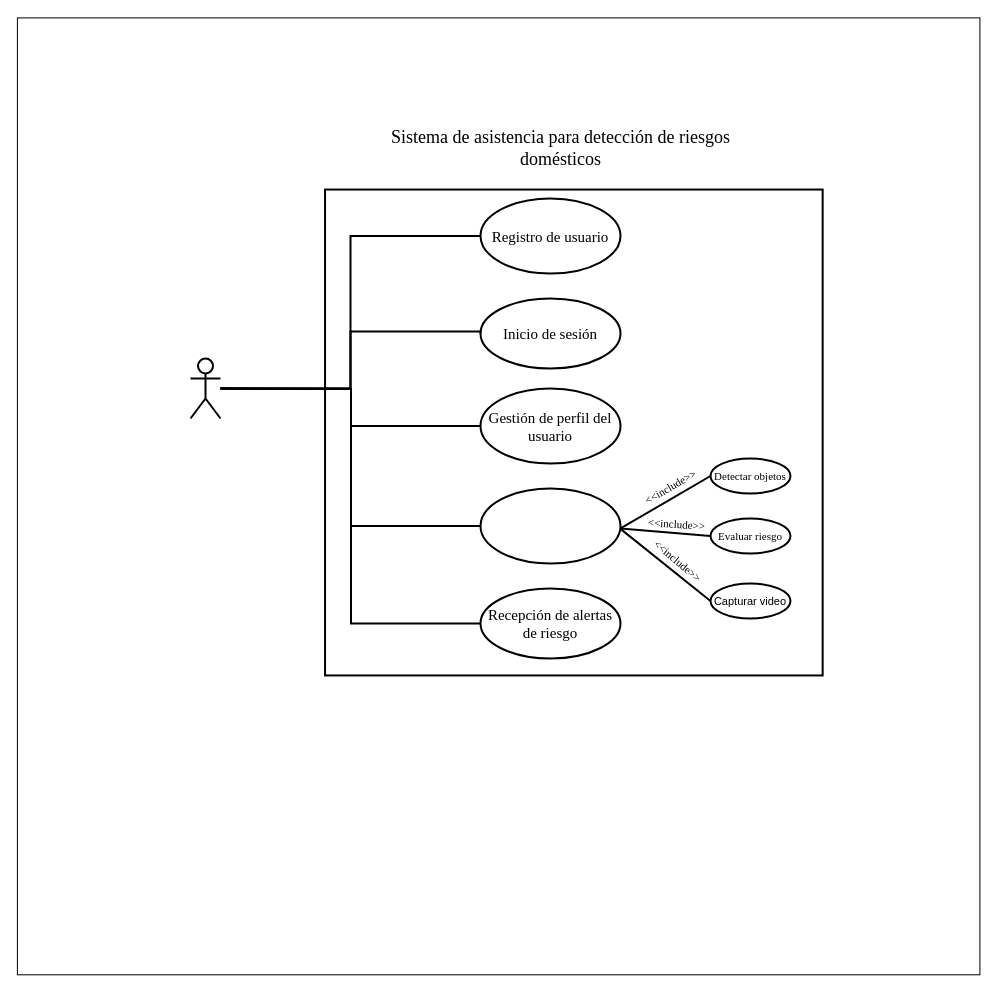
Image size: 998x992. Some labels were removed from this diagram. The shapes that lost their labels are listed below. From the top down, each one's centre as x and y in pixels, then its label:
(205,388): Usuario
(550,525): Análisis del entorno mediante la cámara
